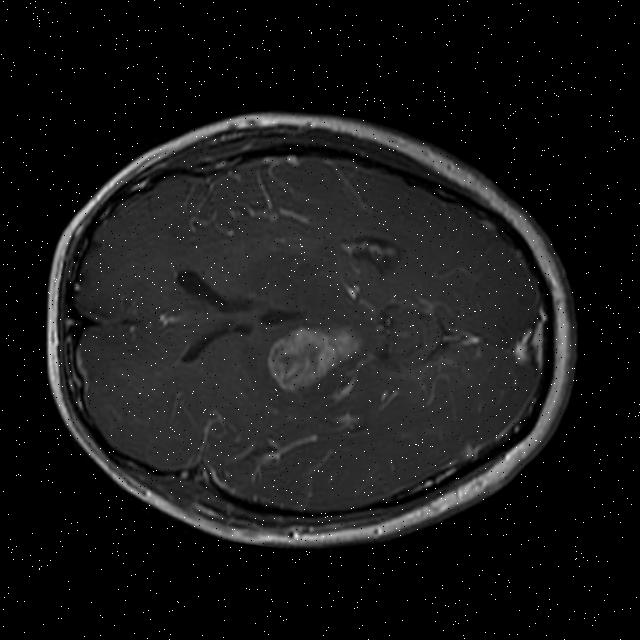Glioma: (260, 315, 365, 401)
